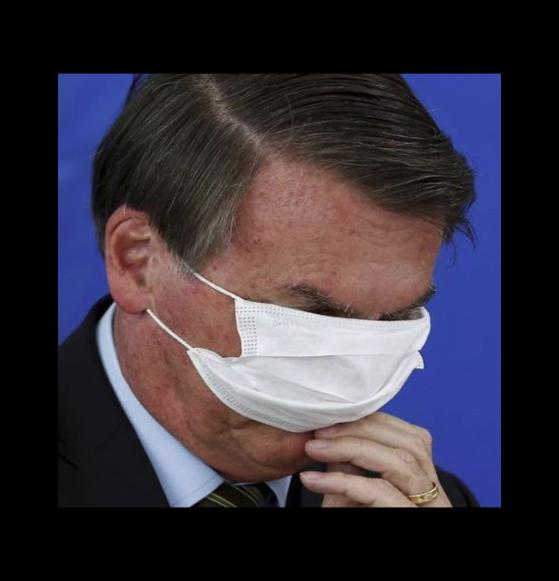mask_weared_incorrect: (201, 245, 458, 487)
